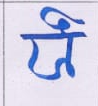au_matra: (57, 7, 82, 77)
